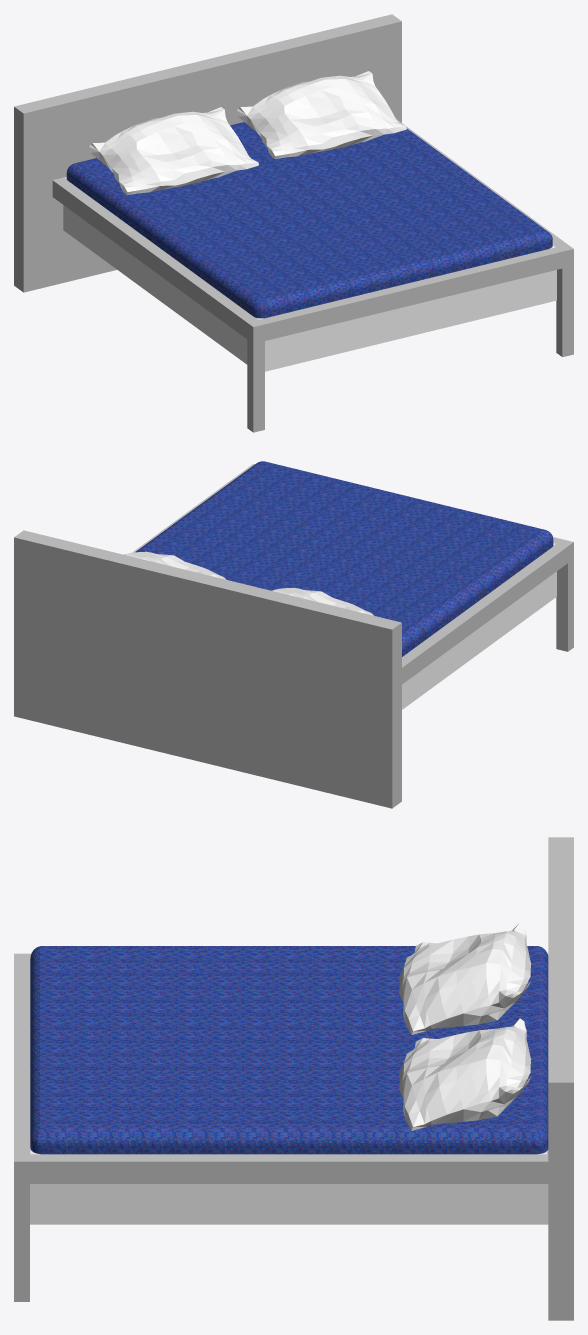
3 renders of one model, top to bottom at view 1: azimuth 30°, elevation 25°; view 2: azimuth 150°, elevation 25°; view 3: azimuth 270°, elevation 25°, orthographic. The views are drawn at different scales.
Visible parts, largest first — view 1: ChamferBox, Box03, Box01, Box02, VIFS03, VIFS02, Box06, Box05; view 2: Box03, ChamferBox, Box02, Box01, Box06, VIFS03, VIFS02; view 3: ChamferBox, Box01, Box02, Box03, VIFS03, VIFS02, Box05.
Boxes of the visible parts, x1,y1,x2,y2 form: ChamferBox: [66, 122, 552, 318]; Box03: [14, 14, 401, 292]; Box01: [63, 177, 556, 371]; Box02: [52, 119, 573, 343]; VIFS03: [237, 71, 406, 159]; VIFS02: [89, 107, 258, 195]; Box06: [247, 323, 264, 432]; Box05: [556, 244, 573, 357]; Box03: [14, 530, 401, 808]; ChamferBox: [135, 461, 553, 656]; Box02: [132, 464, 572, 684]; Box01: [402, 543, 556, 709]; Box06: [556, 540, 573, 651]; VIFS03: [124, 551, 225, 579]; VIFS02: [272, 588, 373, 615]; ChamferBox: [30, 946, 548, 1154]; Box01: [30, 1148, 548, 1224]; Box02: [14, 953, 548, 1183]; Box03: [548, 837, 573, 1320]; VIFS03: [399, 1018, 531, 1130]; VIFS02: [399, 922, 531, 1034]; Box05: [14, 1154, 29, 1301].
Size of the model in its own units: 8862 by 8545 by 4053.
